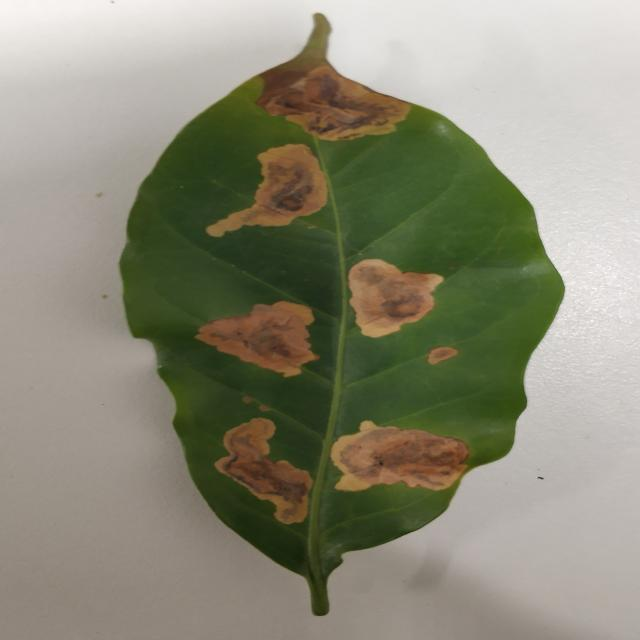Plaga-Minador: (117, 14, 565, 619)
